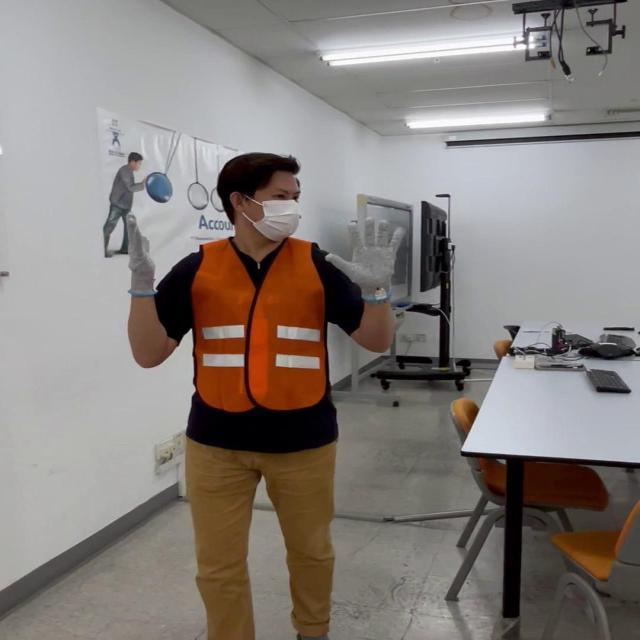gloved_hand: (321, 215, 401, 306), (123, 208, 158, 298)
